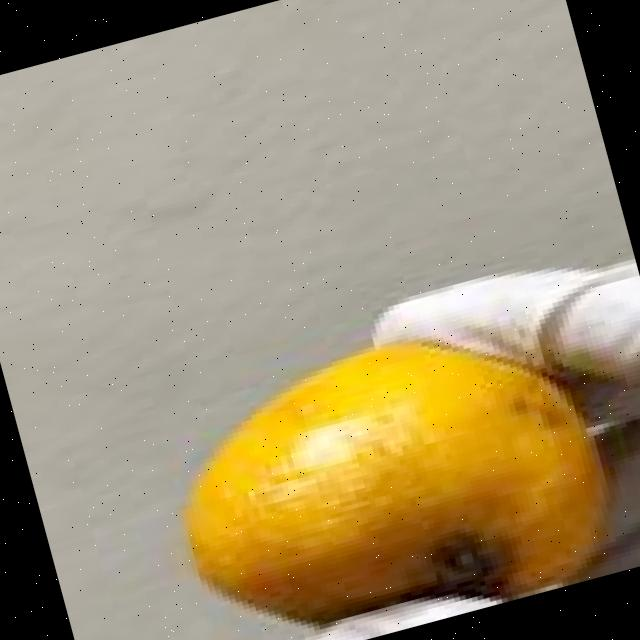Bad_Orange-0-1 day: (181, 343, 616, 632)
